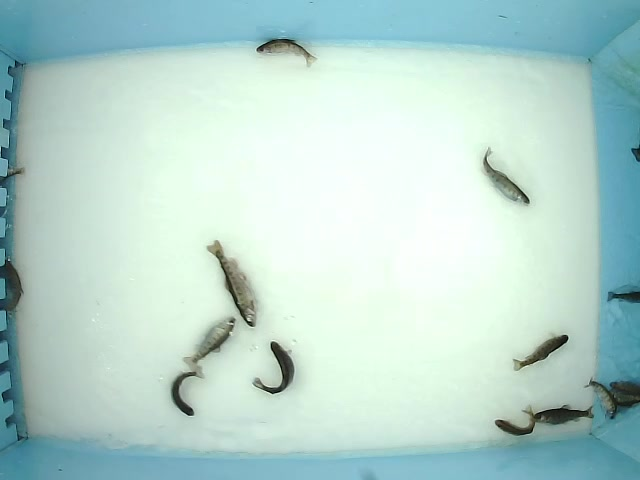fish: (203, 238, 261, 327), (481, 145, 532, 207), (183, 316, 238, 371), (251, 341, 296, 396), (510, 330, 570, 371), (253, 36, 319, 70), (169, 365, 207, 418), (494, 401, 536, 437), (583, 376, 616, 421), (532, 404, 595, 425)
